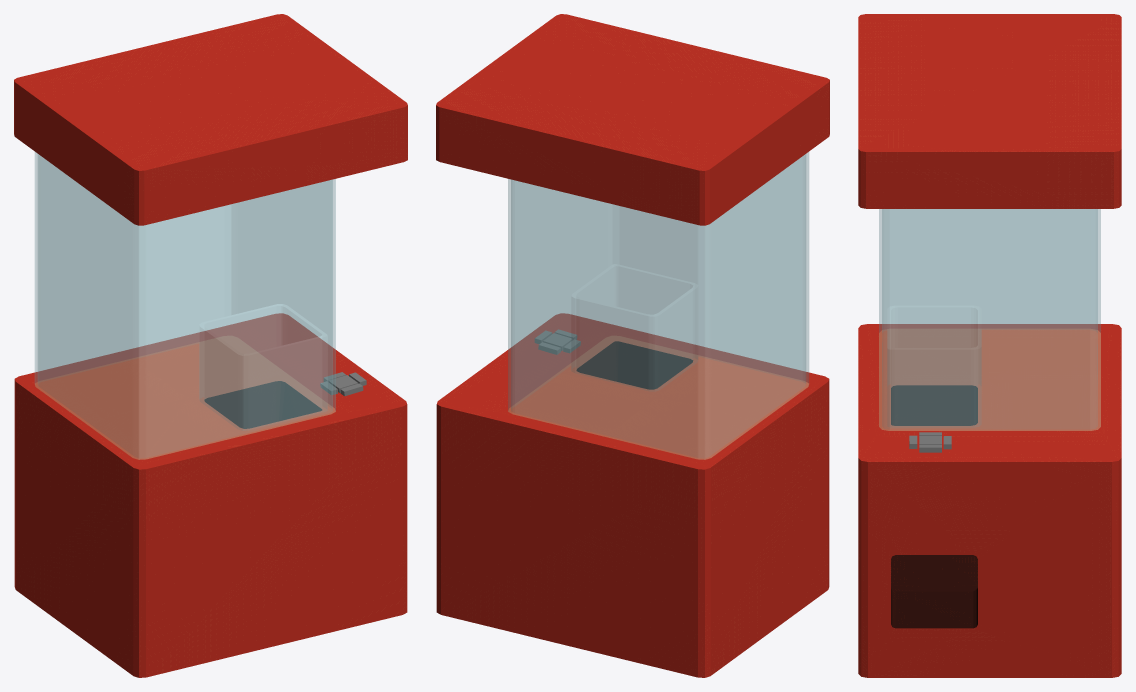
The model's file is CraneGame_machine.glb.
3 views of the same model, side by side, from view 1: azimuth 30°, elevation 25°; view 2: azimuth 150°, elevation 25°; view 3: azimuth 270°, elevation 25° (orthographic). The views are drawn at different scales.
Visible parts, largest first — view 1: machine, glass, buttons; view 2: machine, glass, buttons; view 3: machine, glass, buttons.
Part boxes in pixels (bbox=[...]): machine: bbox=[14, 14, 407, 677]; glass: bbox=[35, 152, 335, 459]; buttons: bbox=[320, 372, 366, 396]; machine: bbox=[436, 14, 829, 677]; glass: bbox=[508, 152, 808, 459]; buttons: bbox=[535, 329, 580, 354]; machine: bbox=[858, 14, 1121, 677]; glass: bbox=[879, 209, 1100, 430]; buttons: bbox=[909, 432, 951, 452].
Bounding box in the file's own units: 7.22 × 12.81 × 5.81.
2 materials, 1 textured.
